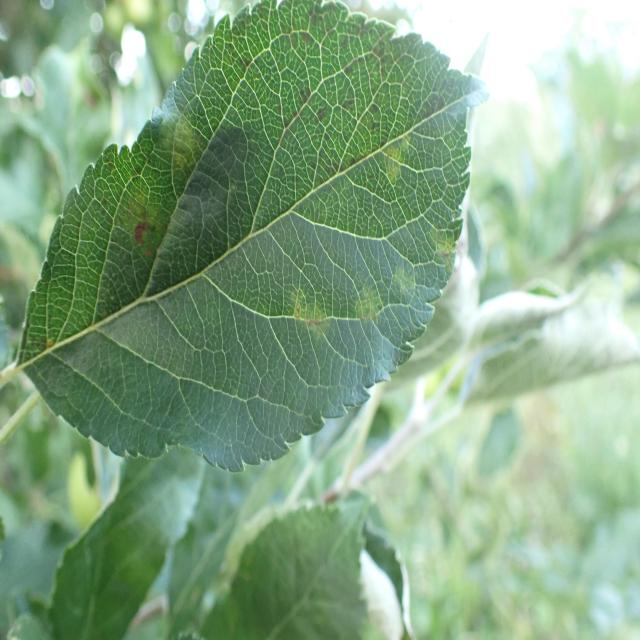scab: (196, 0, 483, 362), (112, 55, 198, 328)
